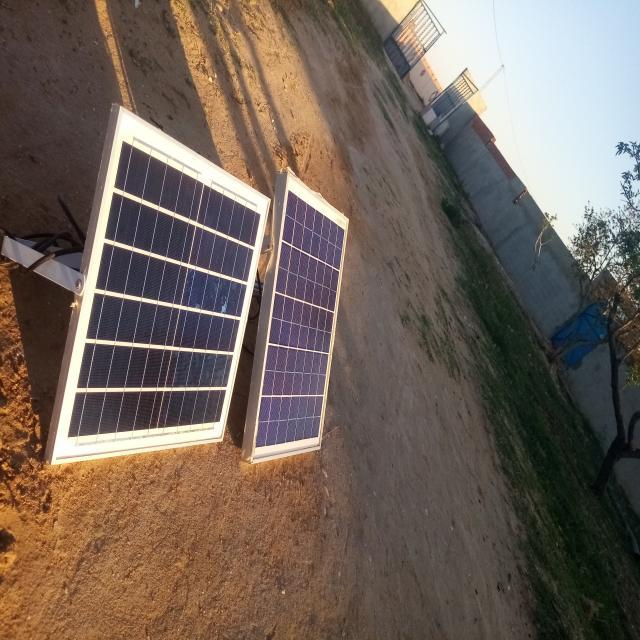no faulty: (52, 109, 269, 464), (250, 175, 349, 461)
